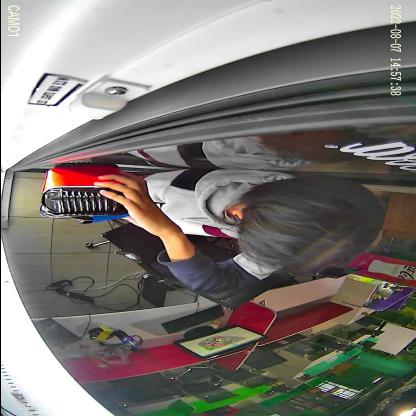blue: (63, 210, 133, 226)
red: (38, 162, 128, 219)
